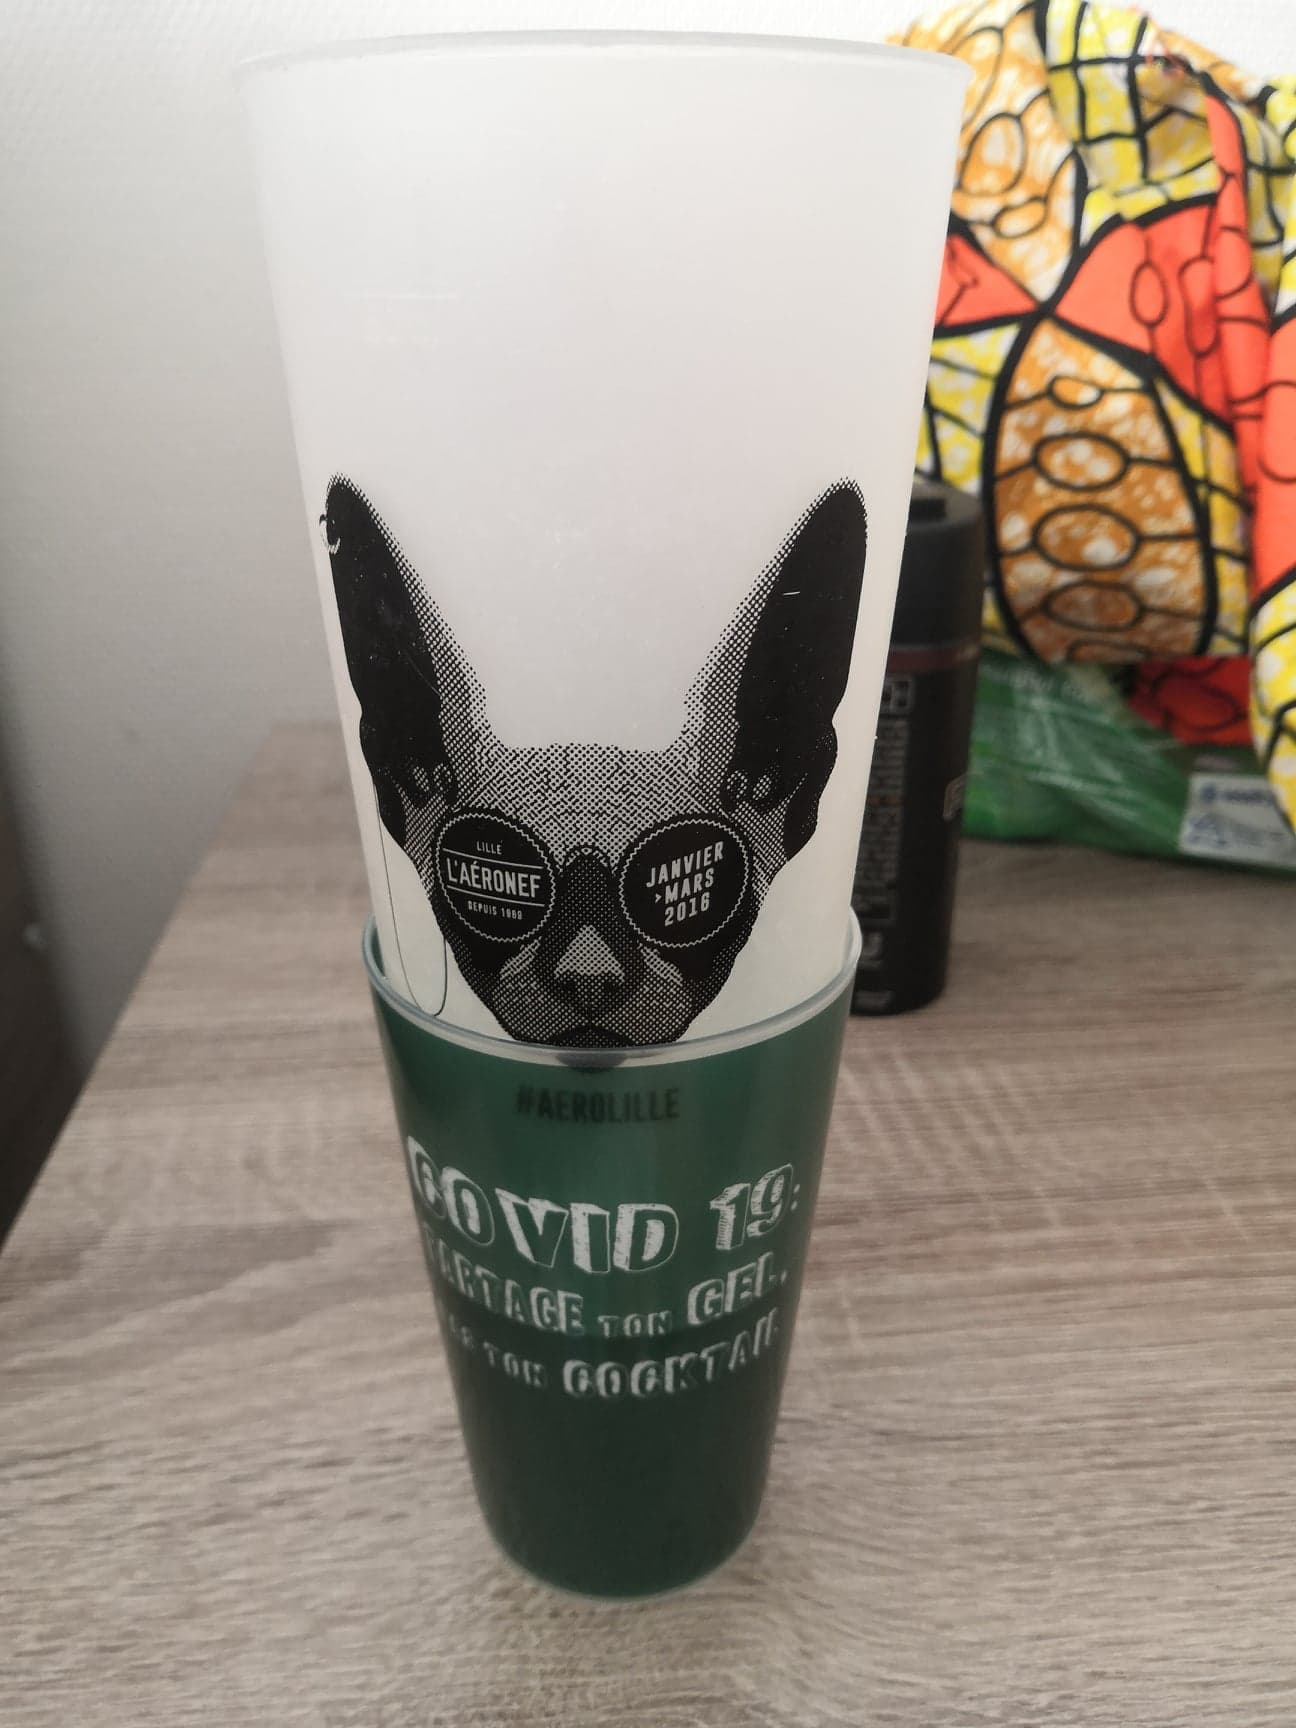ecocup: (237, 29, 973, 1267), (359, 884, 863, 1610)
